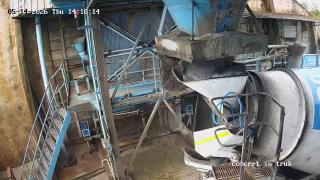cement_mixer_truck: (172, 64, 320, 180)
